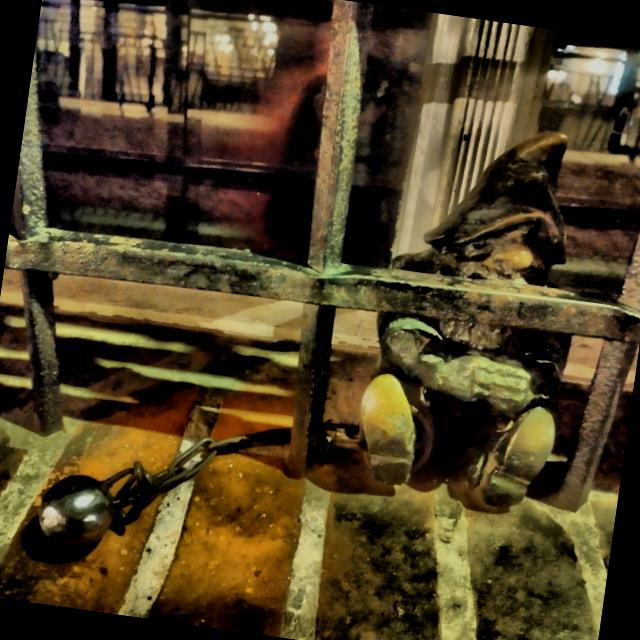Wiezien: (23, 135, 573, 564)
